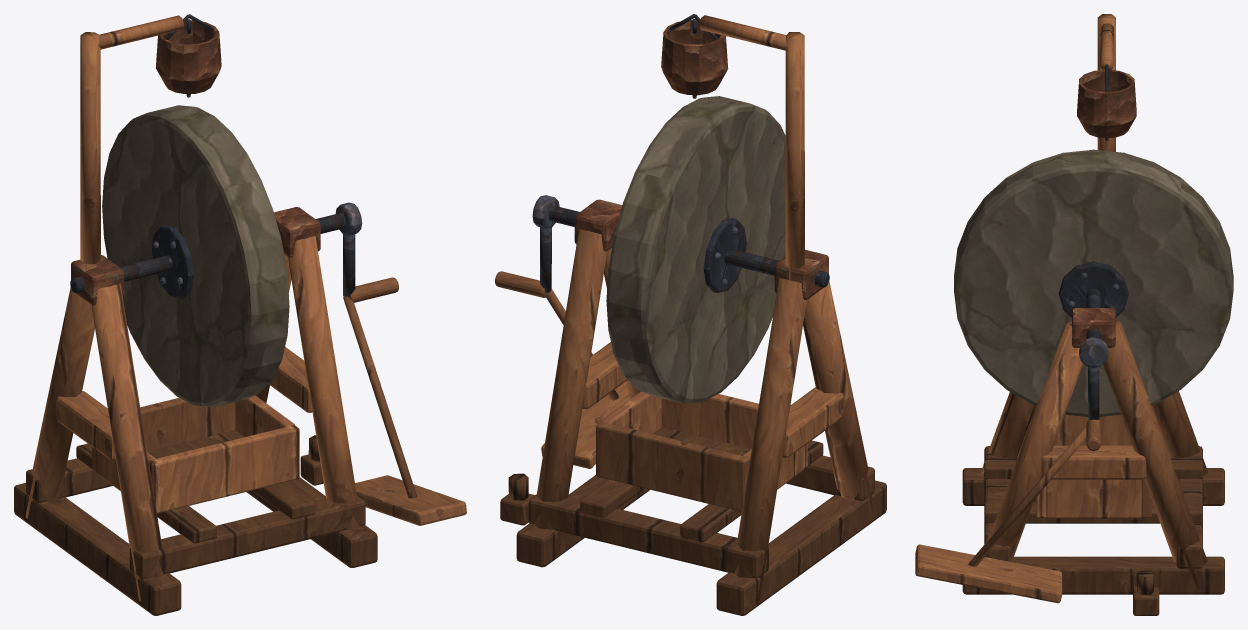
File: ef_grinding_wheel.glb
3 renders of one model, left to right at view 1: azimuth 30°, elevation 25°; view 2: azimuth 150°, elevation 25°; view 3: azimuth 270°, elevation 25°, orthographic. The views are drawn at different scales.
Parts seen in each view (by area): view 1: model; view 2: model; view 3: model.
Boxes of the visible parts, box(x1,y1,x2,y2) form: model: box(14, 14, 466, 615); model: box(495, 14, 886, 615); model: box(915, 14, 1233, 615).
Size of the model in its own units: 0.79 by 1.22 by 0.7282.
Materials: 9 (9 with a texture image).
